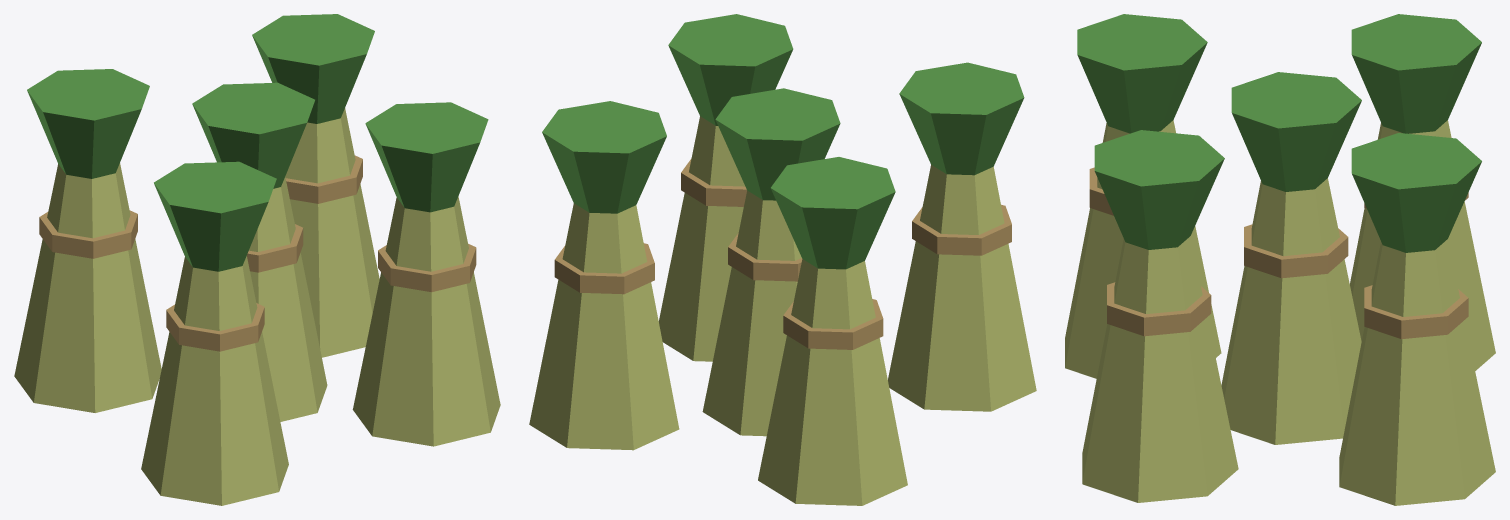
File: pile_flax_2.glb
The picture shows the model from 3 angles, left to right: view 1: azimuth 30°, elevation 25°; view 2: azimuth 150°, elevation 25°; view 3: azimuth 270°, elevation 25°; orthographic projection. The views are drawn at different scales.
Visible parts, largest first — view 1: pile_flax_2; view 2: pile_flax_2; view 3: pile_flax_2.
Part boxes in pixels (x1,y1,x2,y2): pile_flax_2: [14, 14, 500, 505]; pile_flax_2: [529, 14, 1036, 505]; pile_flax_2: [1065, 14, 1495, 505].
Size of the model in its own units: 1.29 by 1 by 1.26.
